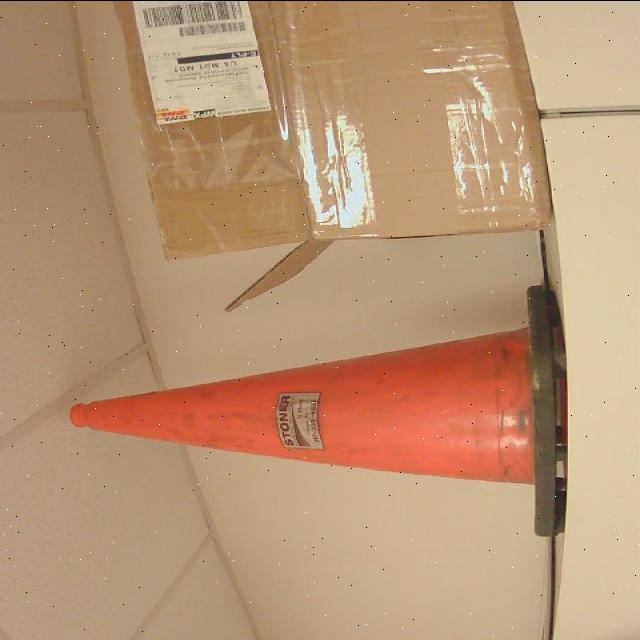traffic cone: (70, 286, 569, 538)
